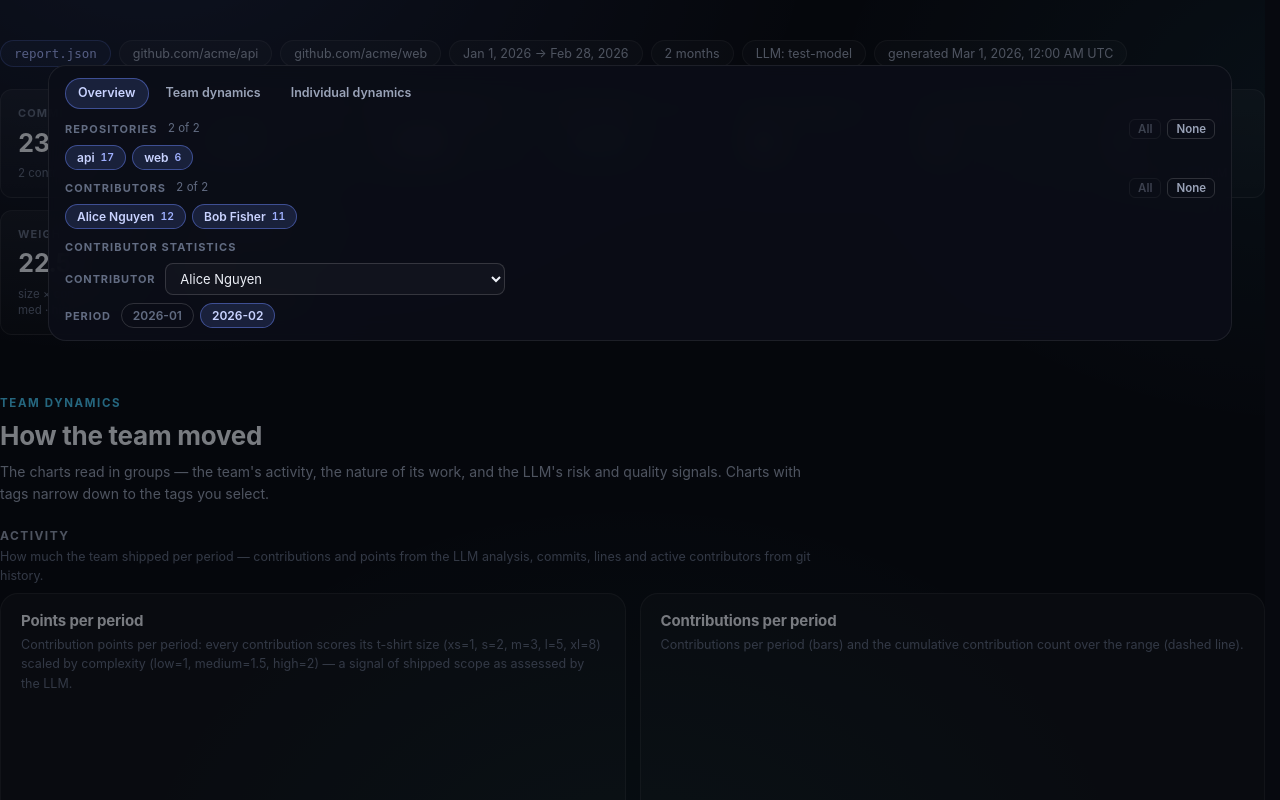
it: Dashboard scope filters › recomputes the overview when a contributor is toggled off
Click the button "Alice Nguyen 12" at (126, 216), box [65,204,186,229]
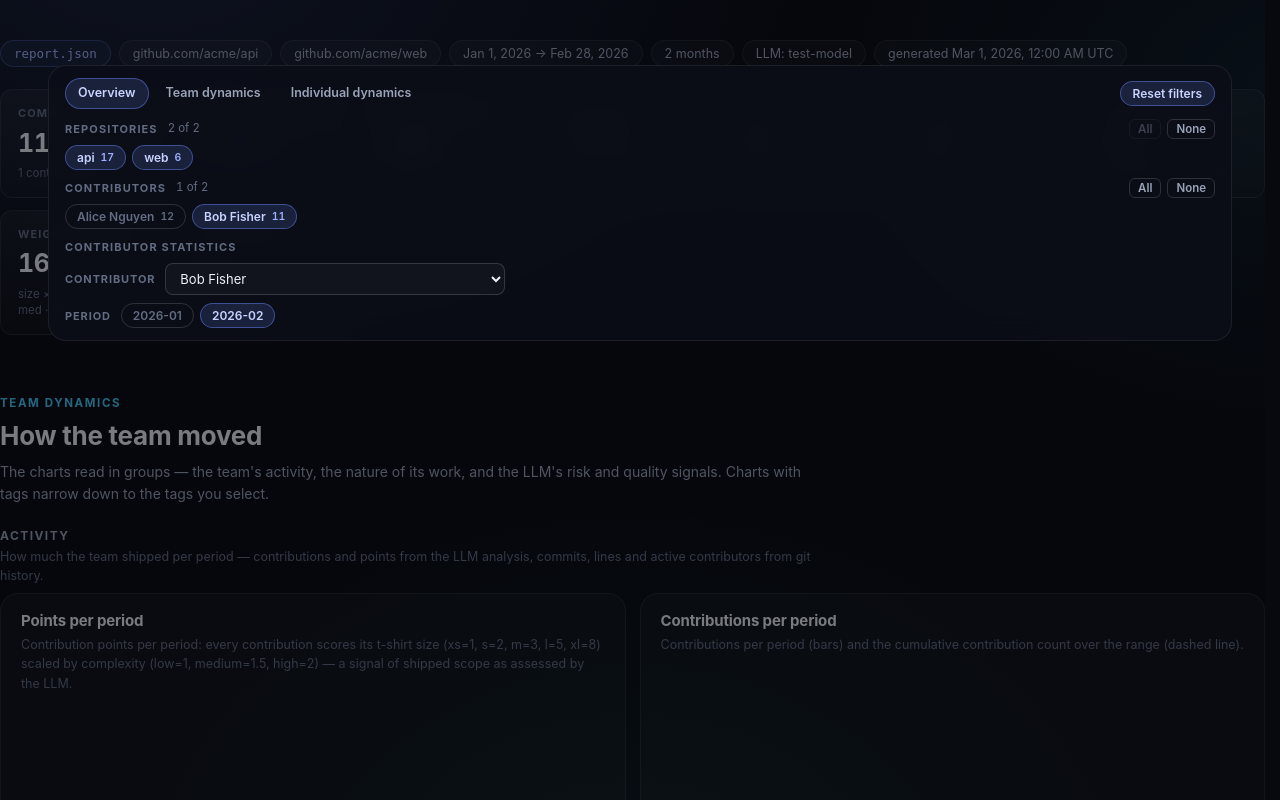
expect the text "Bob Fisher cover 100% of commits" is shown: met, box [200,286,335,319]
